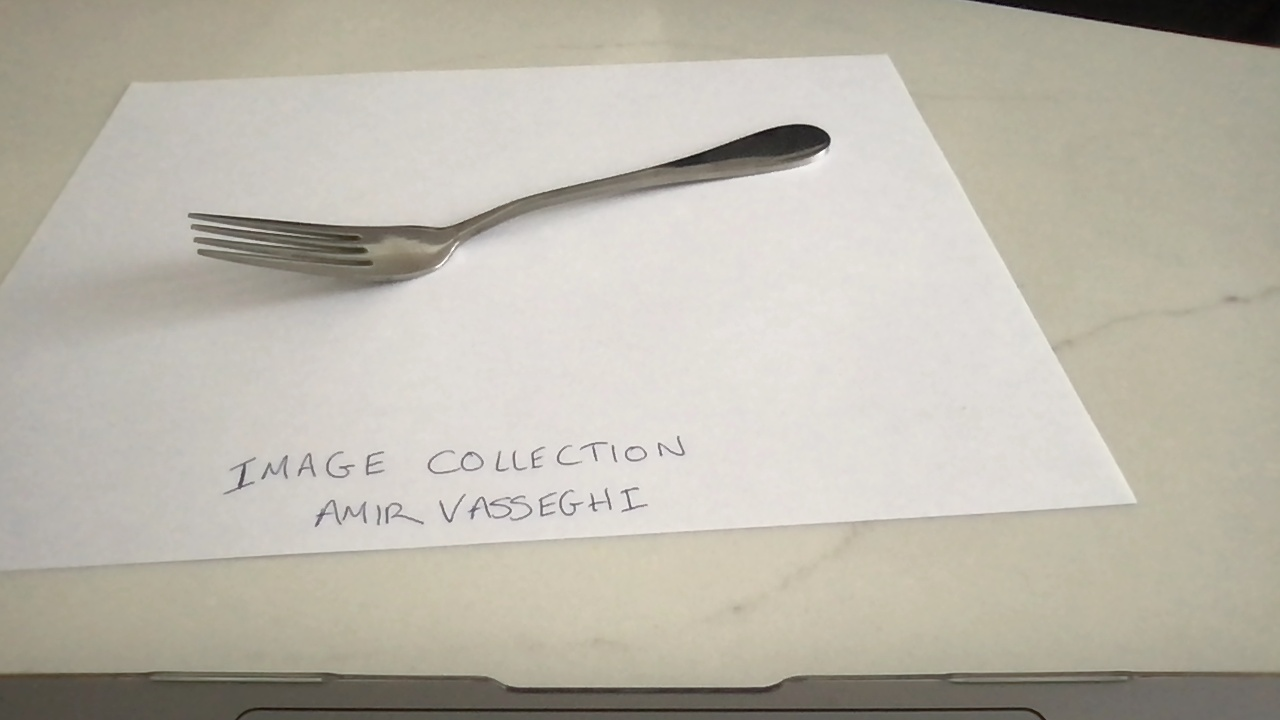fork: (185, 122, 833, 287)
